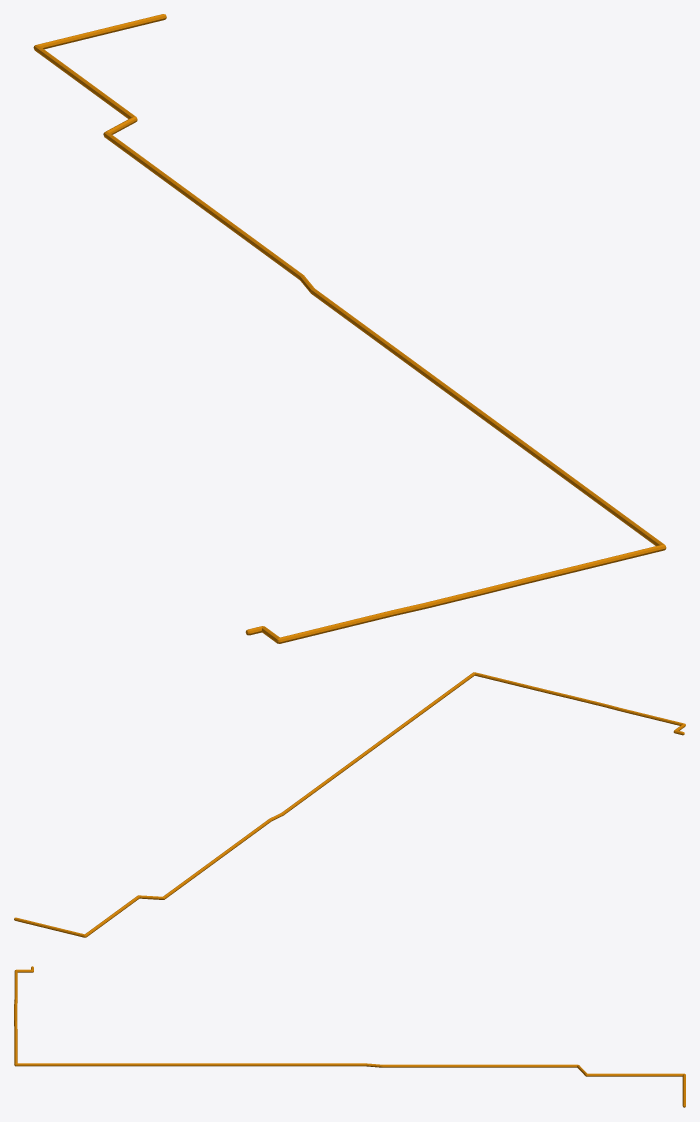
The picture shows the model from 3 angles, top to bottom: view 1: azimuth 30°, elevation 25°; view 2: azimuth 150°, elevation 25°; view 3: azimuth 270°, elevation 25°; orthographic projection. The views are drawn at different scales.
Bounding box in the file's own units: 2028 × 20 × 4124.
